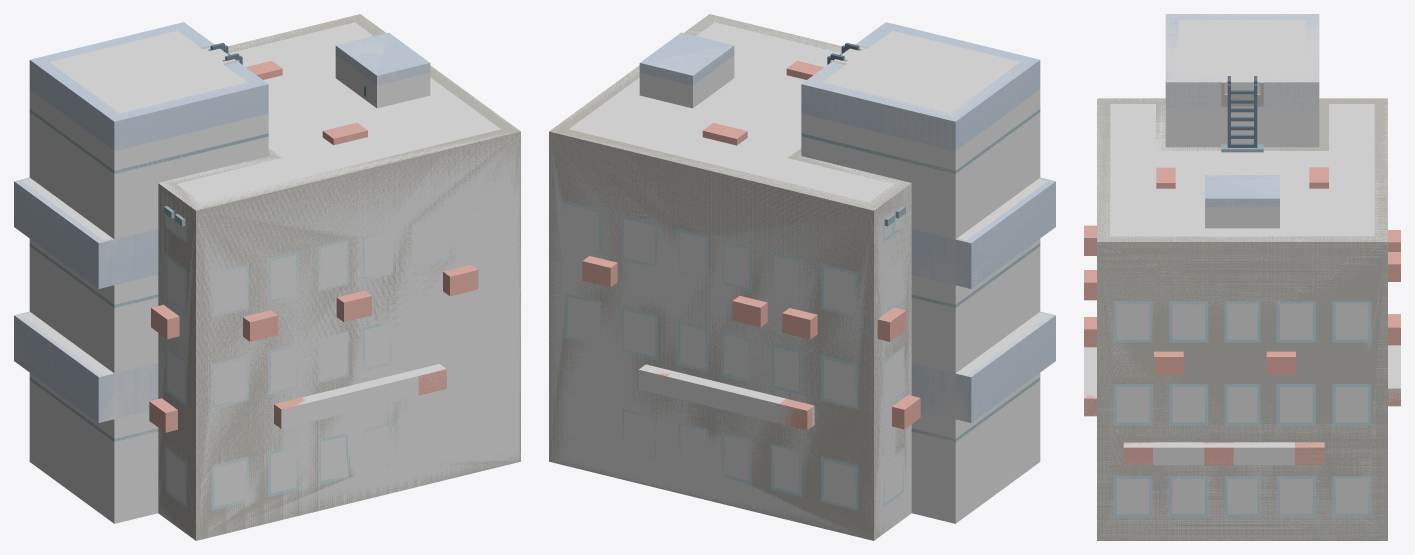
The model's file is Home03_B1_1_01.FBX.
3 views of the same model, side by side, from view 1: azimuth 30°, elevation 25°; view 2: azimuth 150°, elevation 25°; view 3: azimuth 270°, elevation 25° (orthographic). The views are drawn at different scales.
Parts seen in each view (by area): view 1: Home03_B1_Damage_1_01, Home03_B1_Live_1_01; view 2: Home03_B1_Damage_1_01, Home03_B1_Live_1_01; view 3: Home03_B1_Damage_1_01, Home03_B1_Live_1_01.
Boxes of the visible parts, left/top/right/bottom form: Home03_B1_Damage_1_01: left=14, top=14, right=520, bottom=539; Home03_B1_Live_1_01: left=14, top=14, right=520, bottom=540; Home03_B1_Damage_1_01: left=549, top=14, right=1055, bottom=540; Home03_B1_Live_1_01: left=549, top=14, right=1055, bottom=540; Home03_B1_Damage_1_01: left=1084, top=14, right=1400, bottom=540; Home03_B1_Live_1_01: left=1084, top=14, right=1400, bottom=540.
Size of the model in its own units: 9.68 by 9.45 by 7.39.
